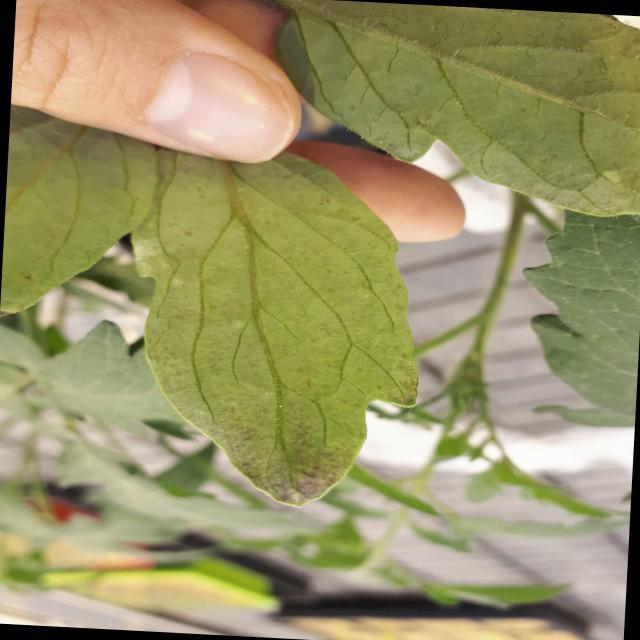Tomato mold leaf: (106, 113, 447, 526)
